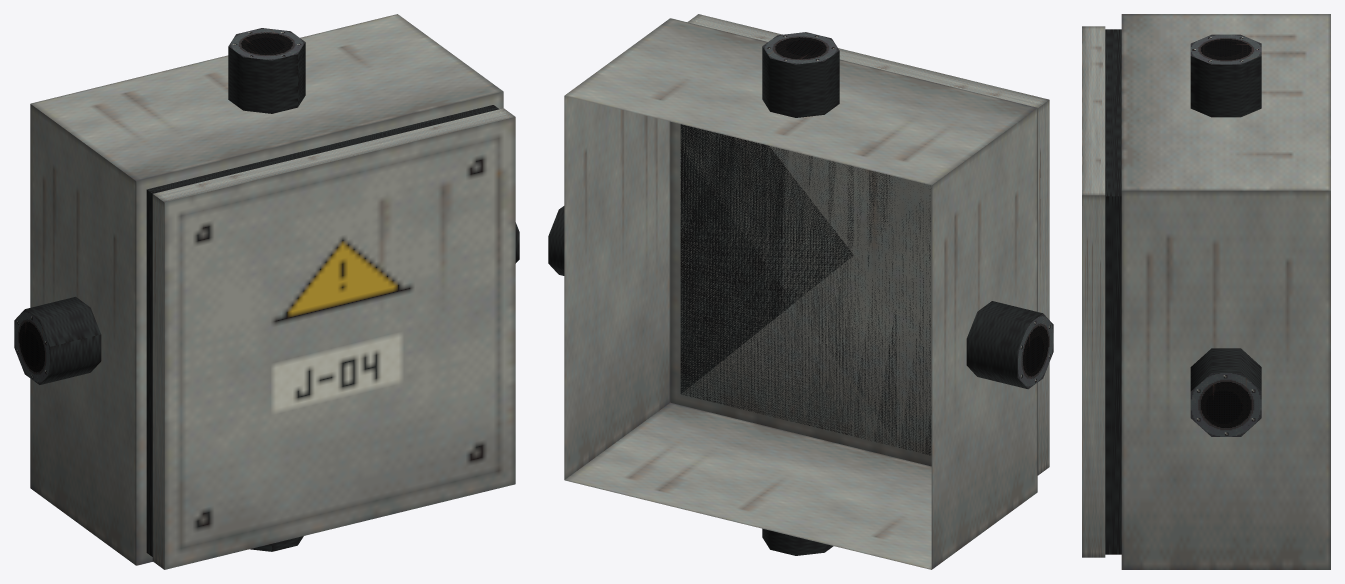
The model's file is SKC-PSX_05_JunctionBox.fbx.
3 views of the same model, side by side, from view 1: azimuth 30°, elevation 25°; view 2: azimuth 150°, elevation 25°; view 3: azimuth 270°, elevation 25° (orthographic).
Visible parts, largest first — view 1: SKC-PSX_05_JunctionBox; view 2: SKC-PSX_05_JunctionBox; view 3: SKC-PSX_05_JunctionBox.
Part boxes in pixels (<box>): SKC-PSX_05_JunctionBox: <box>14,14,519,569</box>; SKC-PSX_05_JunctionBox: <box>548,14,1053,569</box>; SKC-PSX_05_JunctionBox: <box>1082,14,1330,569</box>.
Bounding box in the file's own units: 23 × 23 × 10.7.
Materials: 1 (1 with a texture image).
